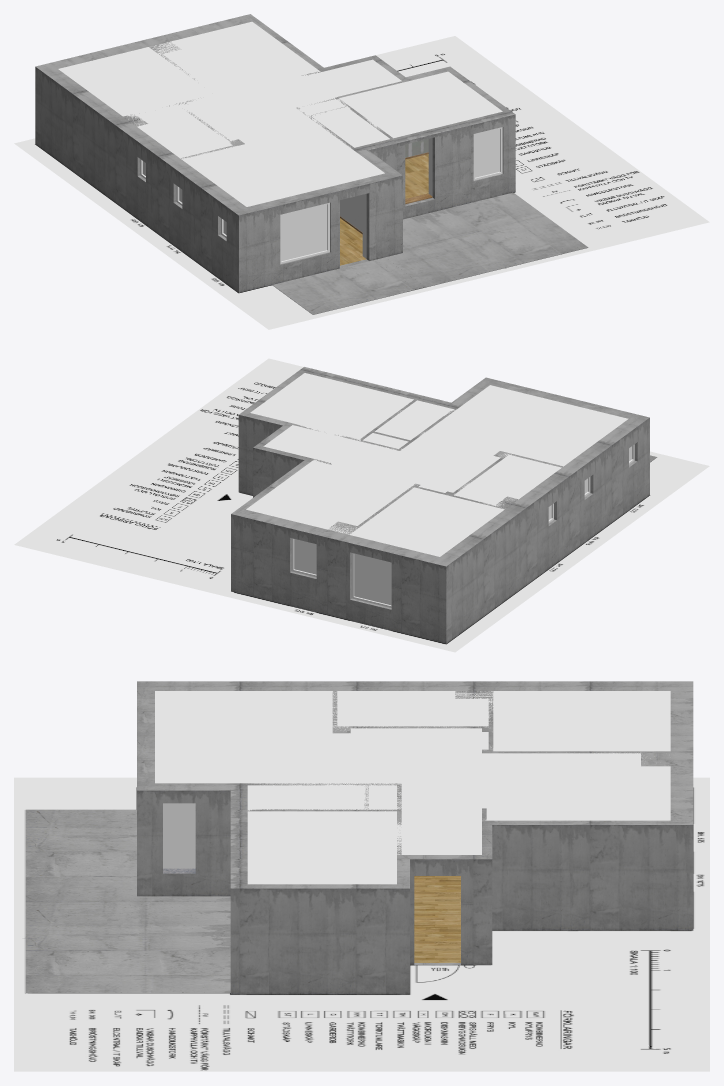
Rendered from Floorplan_07.FBX.
3 renders of one model, top to bottom at view 1: azimuth 30°, elevation 25°; view 2: azimuth 150°, elevation 25°; view 3: azimuth 270°, elevation 25°, orthographic. The views are drawn at different scales.
Parts seen in each view (by area): view 1: Walls_&_Floors, Ceiling, Floorplan, Balcony&Terrace, Window 3, Window 1, Ventilation; view 2: Walls_&_Floors, Ceiling, Floorplan, Window 7, Window 8; view 3: Floorplan, Walls_&_Floors, Ceiling, Balcony&Terrace, Ventilation.
Part boxes in pixels (x1=…): Walls_&_Floors: x1=35, y1=14, x2=515, y2=292; Ceiling: x1=58, y1=22, x2=502, y2=206; Floorplan: x1=14, y1=36, x2=709, y2=329; Balcony&Terrace: x1=273, y1=192, x2=587, y2=314; Window 3: x1=280, y1=202, x2=329, y2=264; Window 1: x1=473, y1=127, x2=502, y2=180; Ventilation: x1=180, y1=22, x2=318, y2=71; Walls_&_Floors: x1=231, y1=367, x2=649, y2=643; Ceiling: x1=246, y1=373, x2=628, y2=556; Floorplan: x1=14, y1=358, x2=709, y2=652; Window 7: x1=351, y1=553, x2=391, y2=607; Window 8: x1=291, y1=538, x2=316, y2=577; Floorplan: x1=14, y1=777, x2=709, y2=1071; Walls_&_Floors: x1=137, y1=681, x2=693, y2=994; Ceiling: x1=155, y1=691, x2=670, y2=884; Balcony&Terrace: x1=25, y1=809, x2=230, y2=992; Ventilation: x1=486, y1=766, x2=670, y2=820.
Size of the model in its own units: 14.9 by 2.51 by 14.9.
12 materials, 9 textured.
